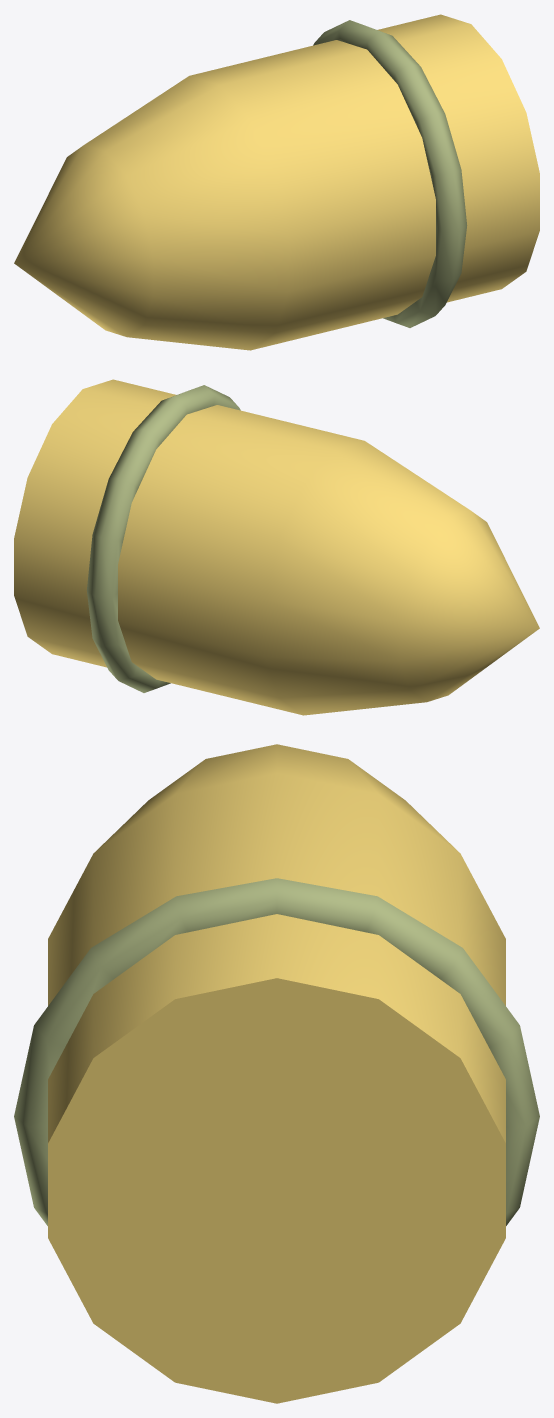
File: GrenadeLauncher.fbx
3 views of the same model, one above another, from view 1: azimuth 30°, elevation 25°; view 2: azimuth 150°, elevation 25°; view 3: azimuth 270°, elevation 25° (orthographic). The views are drawn at different scales.
Visible parts, largest first — view 1: gl_shell; view 2: gl_shell; view 3: gl_shell.
Part boxes in pixels (x1,y1,x2,y2): gl_shell: [14, 14, 539, 350]; gl_shell: [14, 379, 539, 715]; gl_shell: [14, 744, 539, 1403].
Bounding box in the file's own units: 0.3 × 0.1792 × 0.1792.
